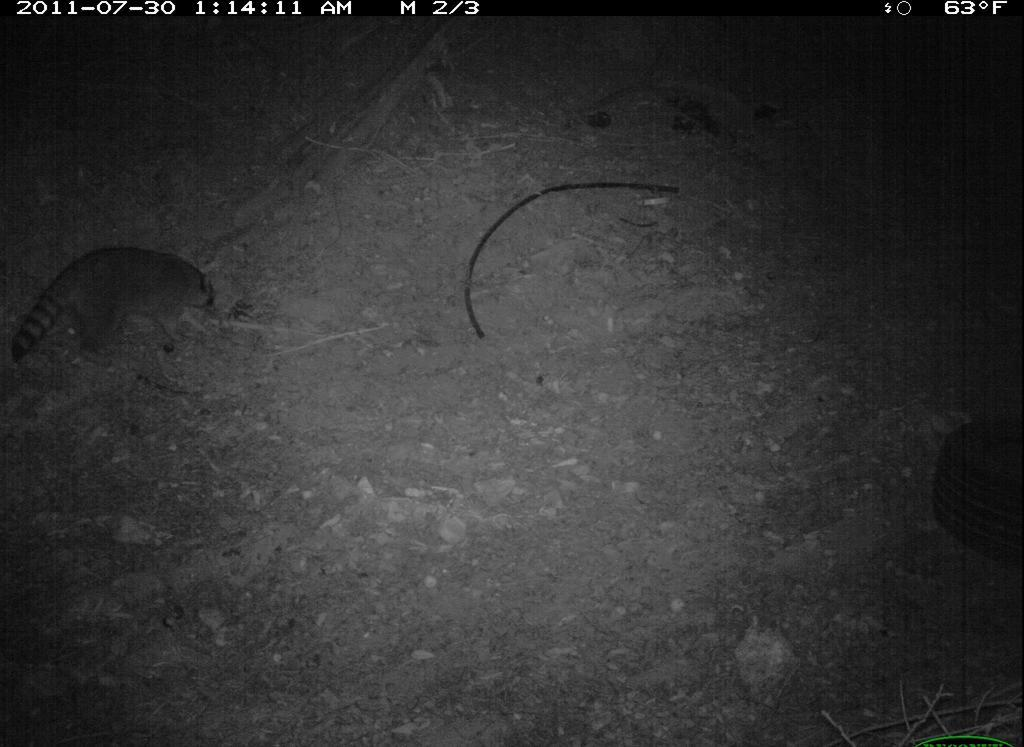raccoon: (7, 236, 228, 378)
